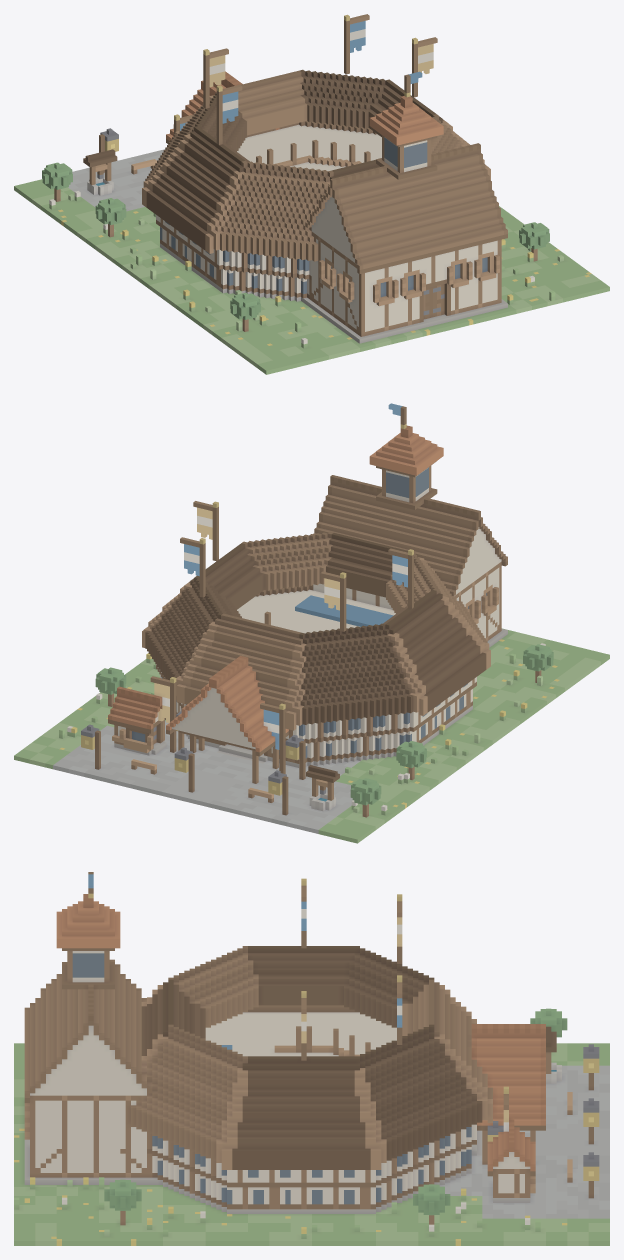
The model's file is playhouse.glb.
The picture shows the model from 3 angles, top to bottom: view 1: azimuth 30°, elevation 25°; view 2: azimuth 150°, elevation 25°; view 3: azimuth 270°, elevation 25°; orthographic projection. The views are drawn at different scales.
Parts seen in each view (by area): view 1: playhouse; view 2: playhouse; view 3: playhouse.
Boxes of the visible parts, x1,y1,x2,y2 form: playhouse: (14, 14, 609, 374); playhouse: (14, 403, 609, 843); playhouse: (14, 872, 609, 1245).
Size of the model in its own units: 11 by 7.12 by 14.
